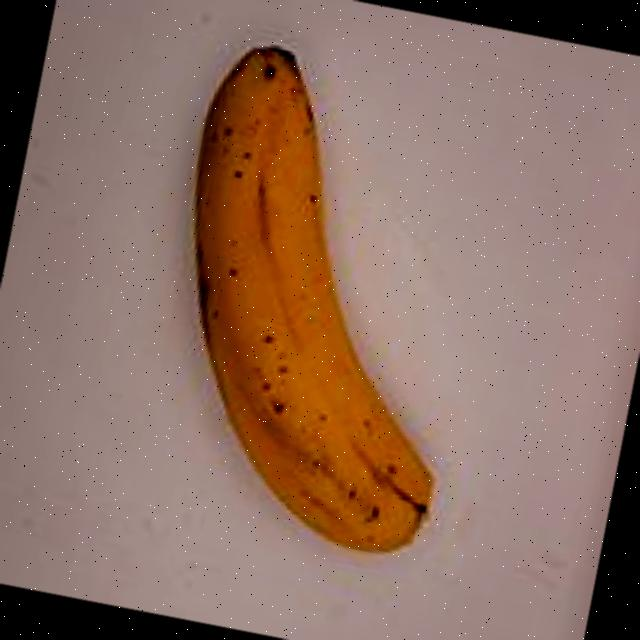Overripe: (71, 4, 562, 589)
